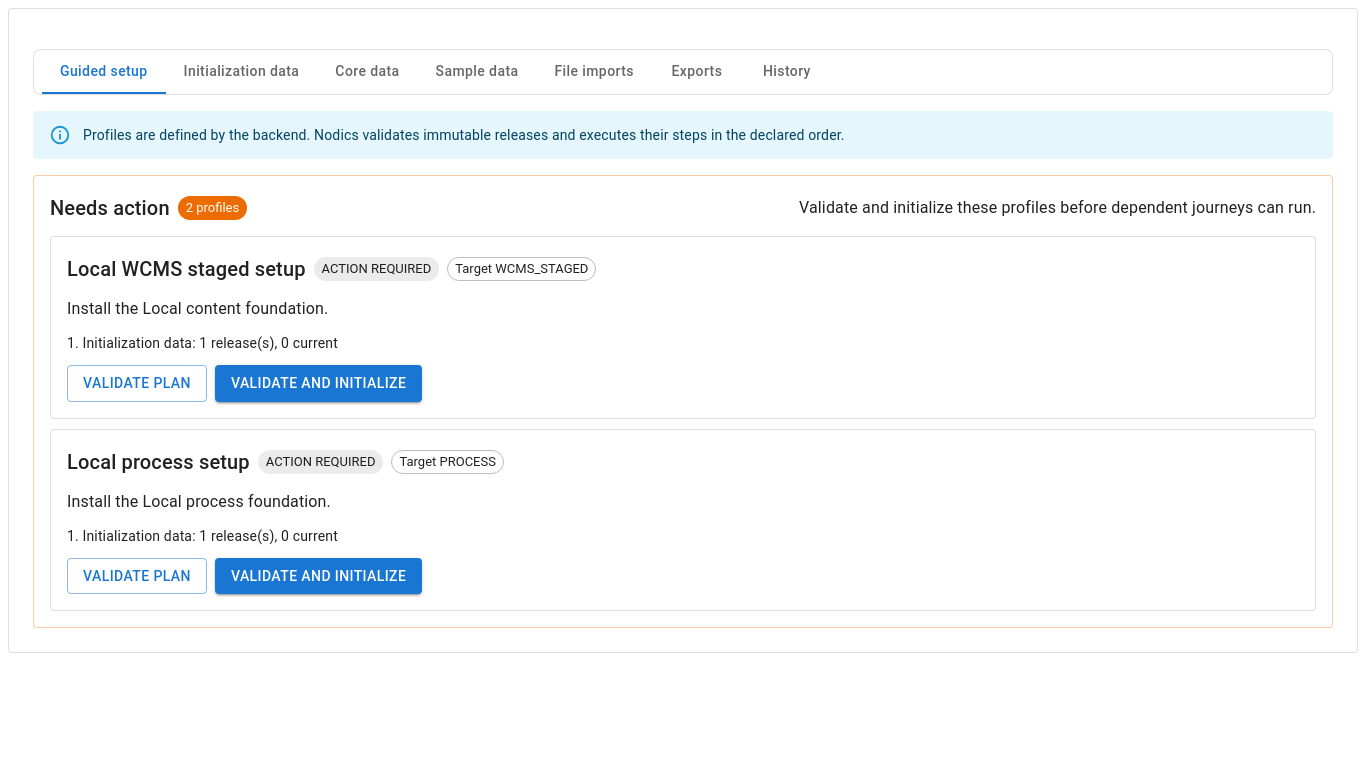
Test: ImportExportRoutePage › runs the selected guided profile against its destination runtime when profile codes repeat
The width and height of the screenshot is (1366, 768).
Expected: the heading "Local WCMS staged setup" is shown, [67,253,306,285]
Expected: the heading "Local process setup" is shown, [67,446,250,478]
Step 1. Click the button "Validate plan" below "Install the Local process foundation." → coordinates (137, 576), box [67,558,207,594]
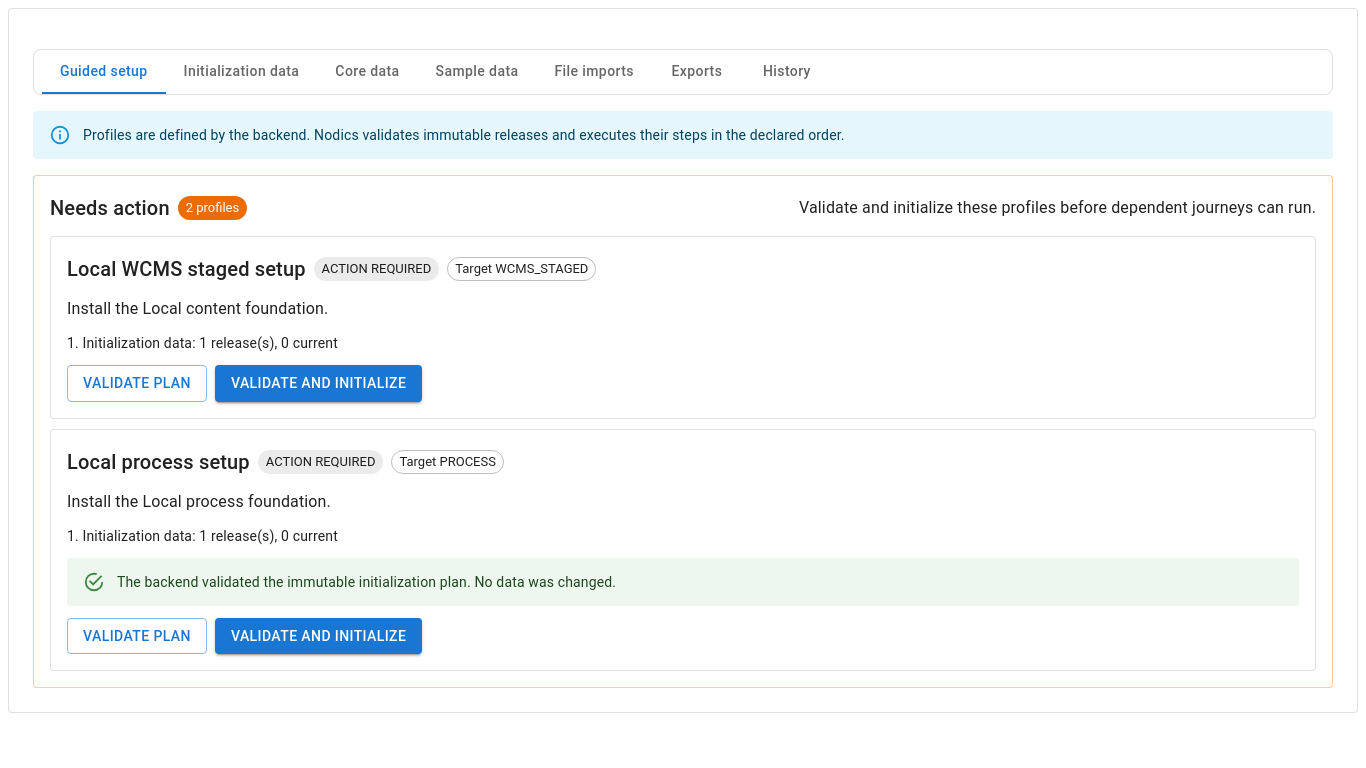
Result: the text "backend validated the immutable initialization plan" is shown at [117,574,616,590]
